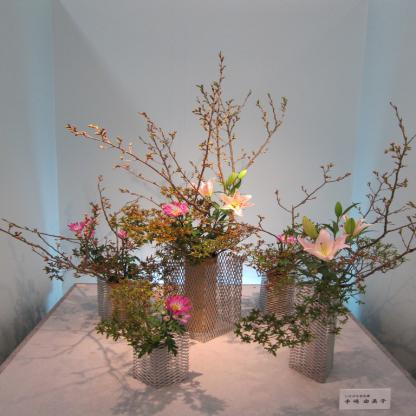vase: (160, 246, 241, 342), (288, 280, 338, 384), (126, 330, 190, 388), (96, 276, 154, 328), (252, 267, 297, 321)
